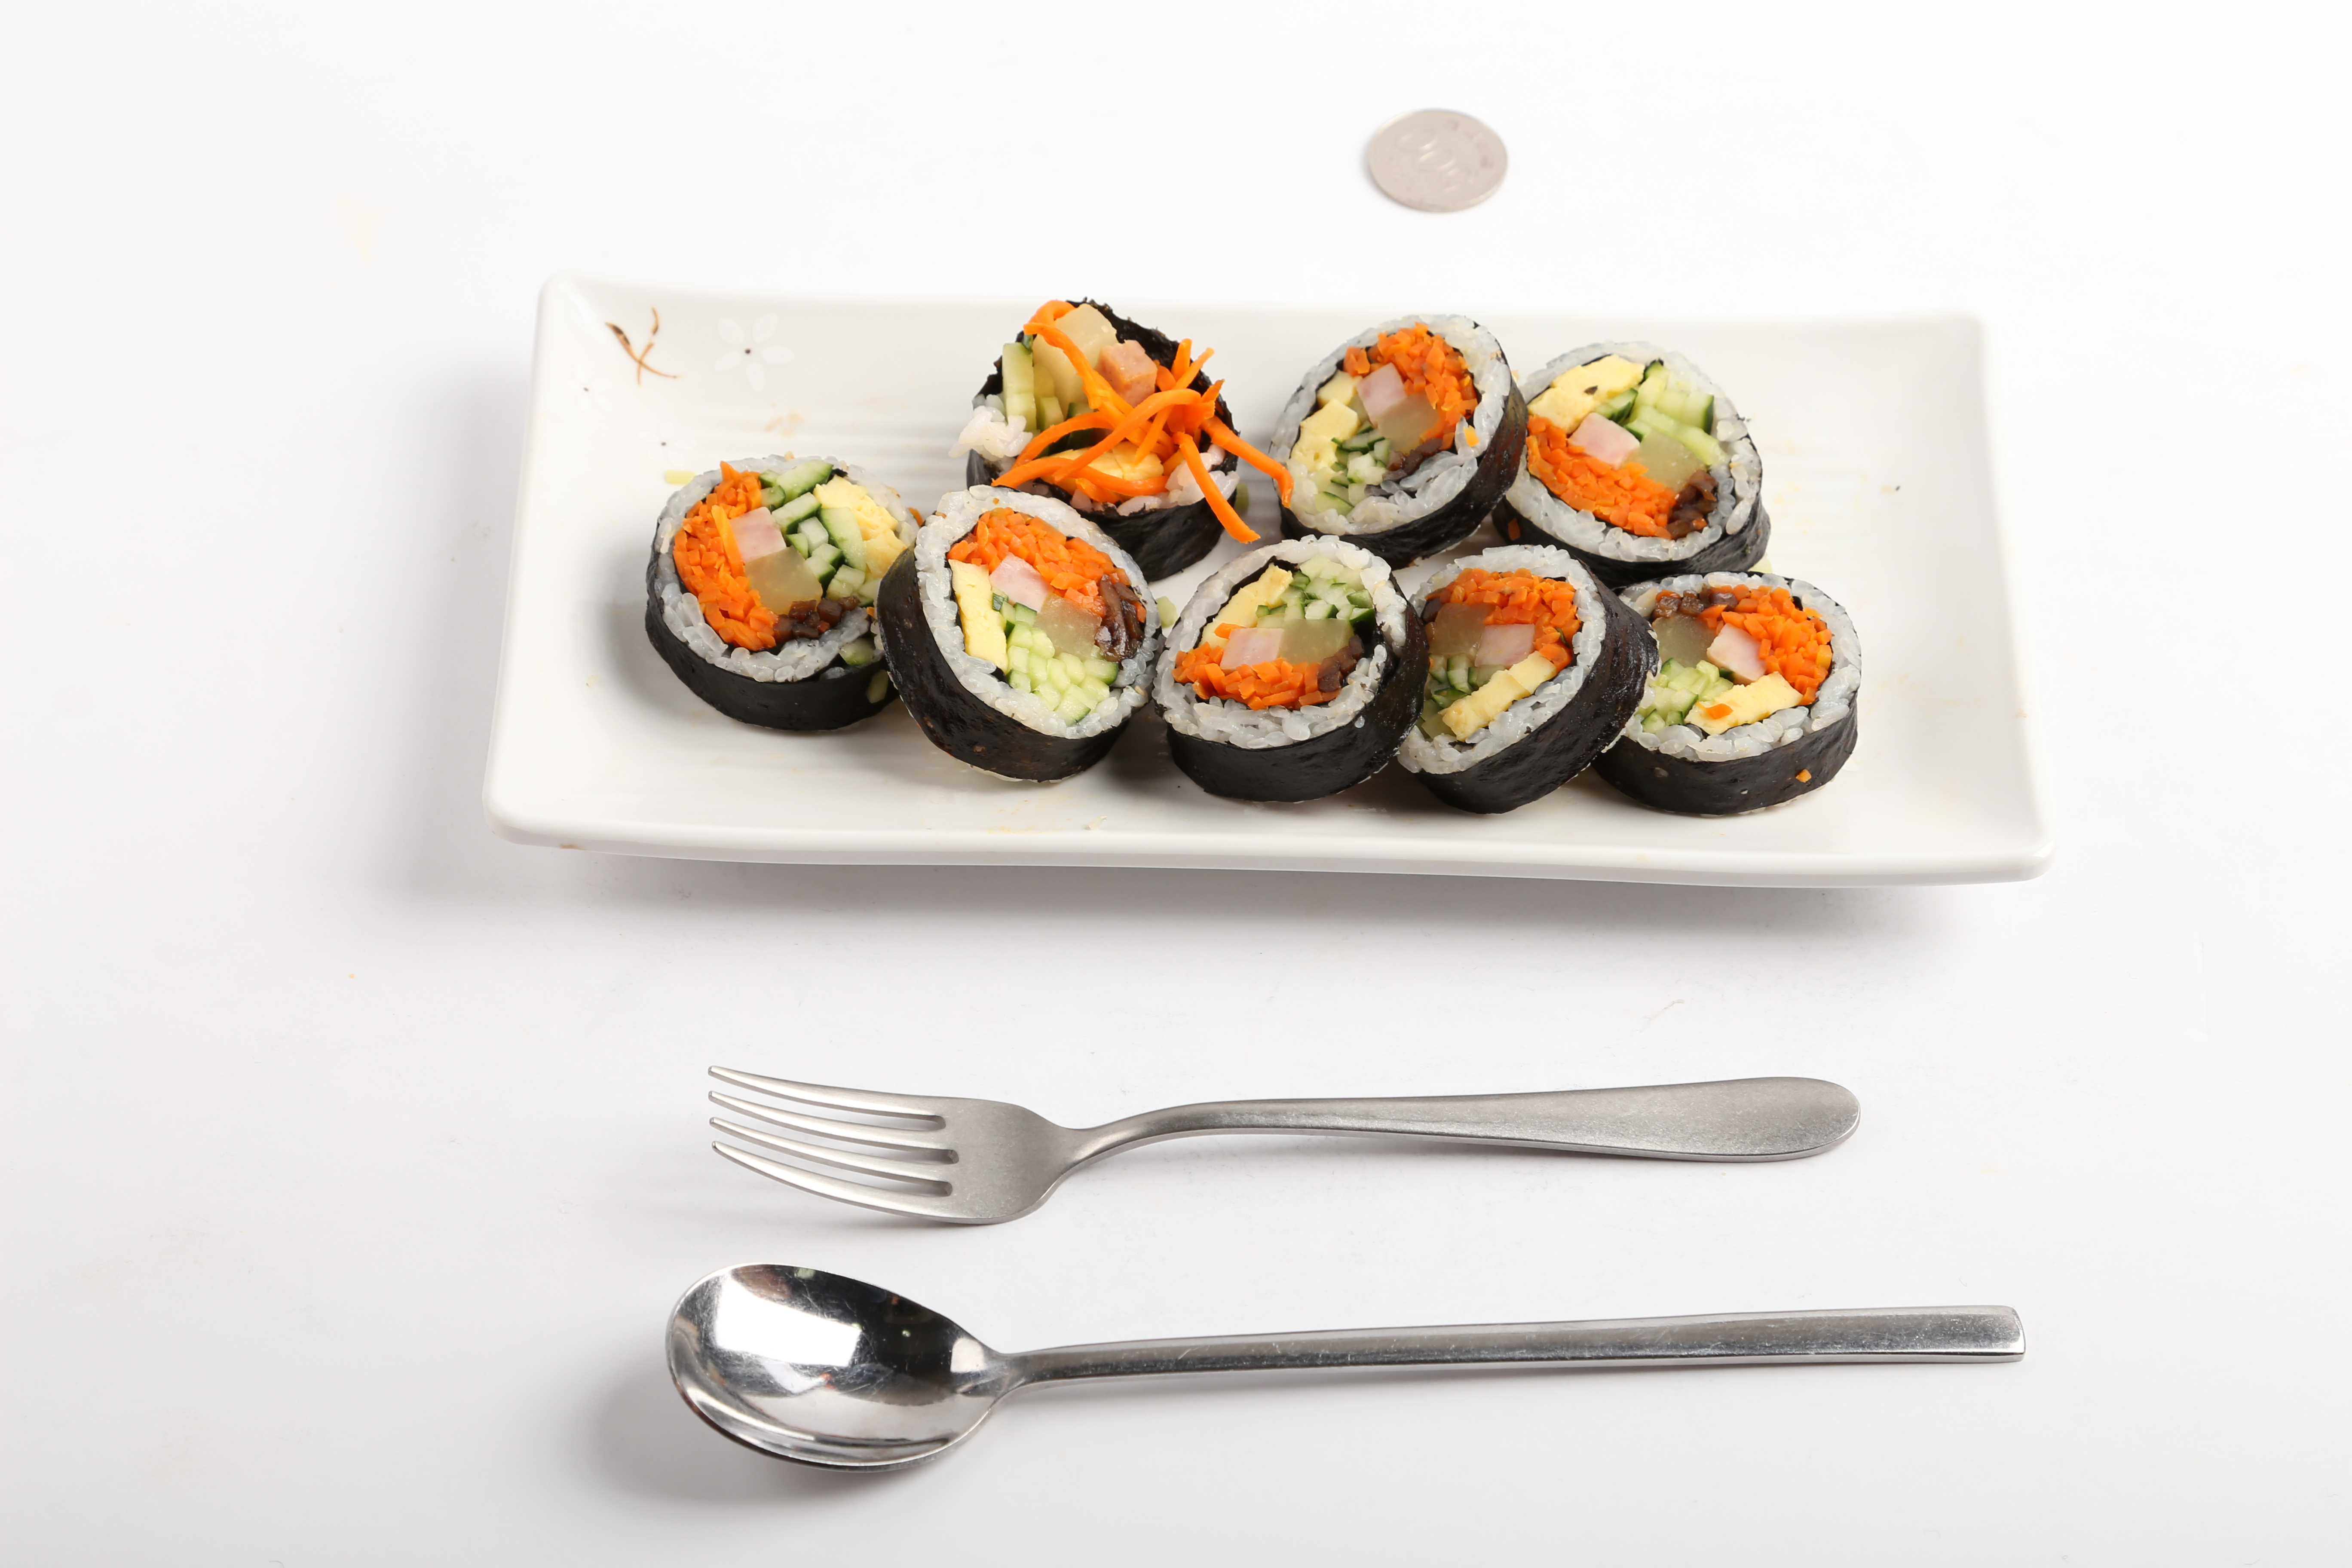dish: (478, 269, 2058, 901)
ref_coin: (1360, 98, 1512, 220)
ref_fork: (698, 1046, 1137, 1237)
ref_spoon: (665, 1255, 1090, 1475)
김밥: (640, 292, 1867, 819)
